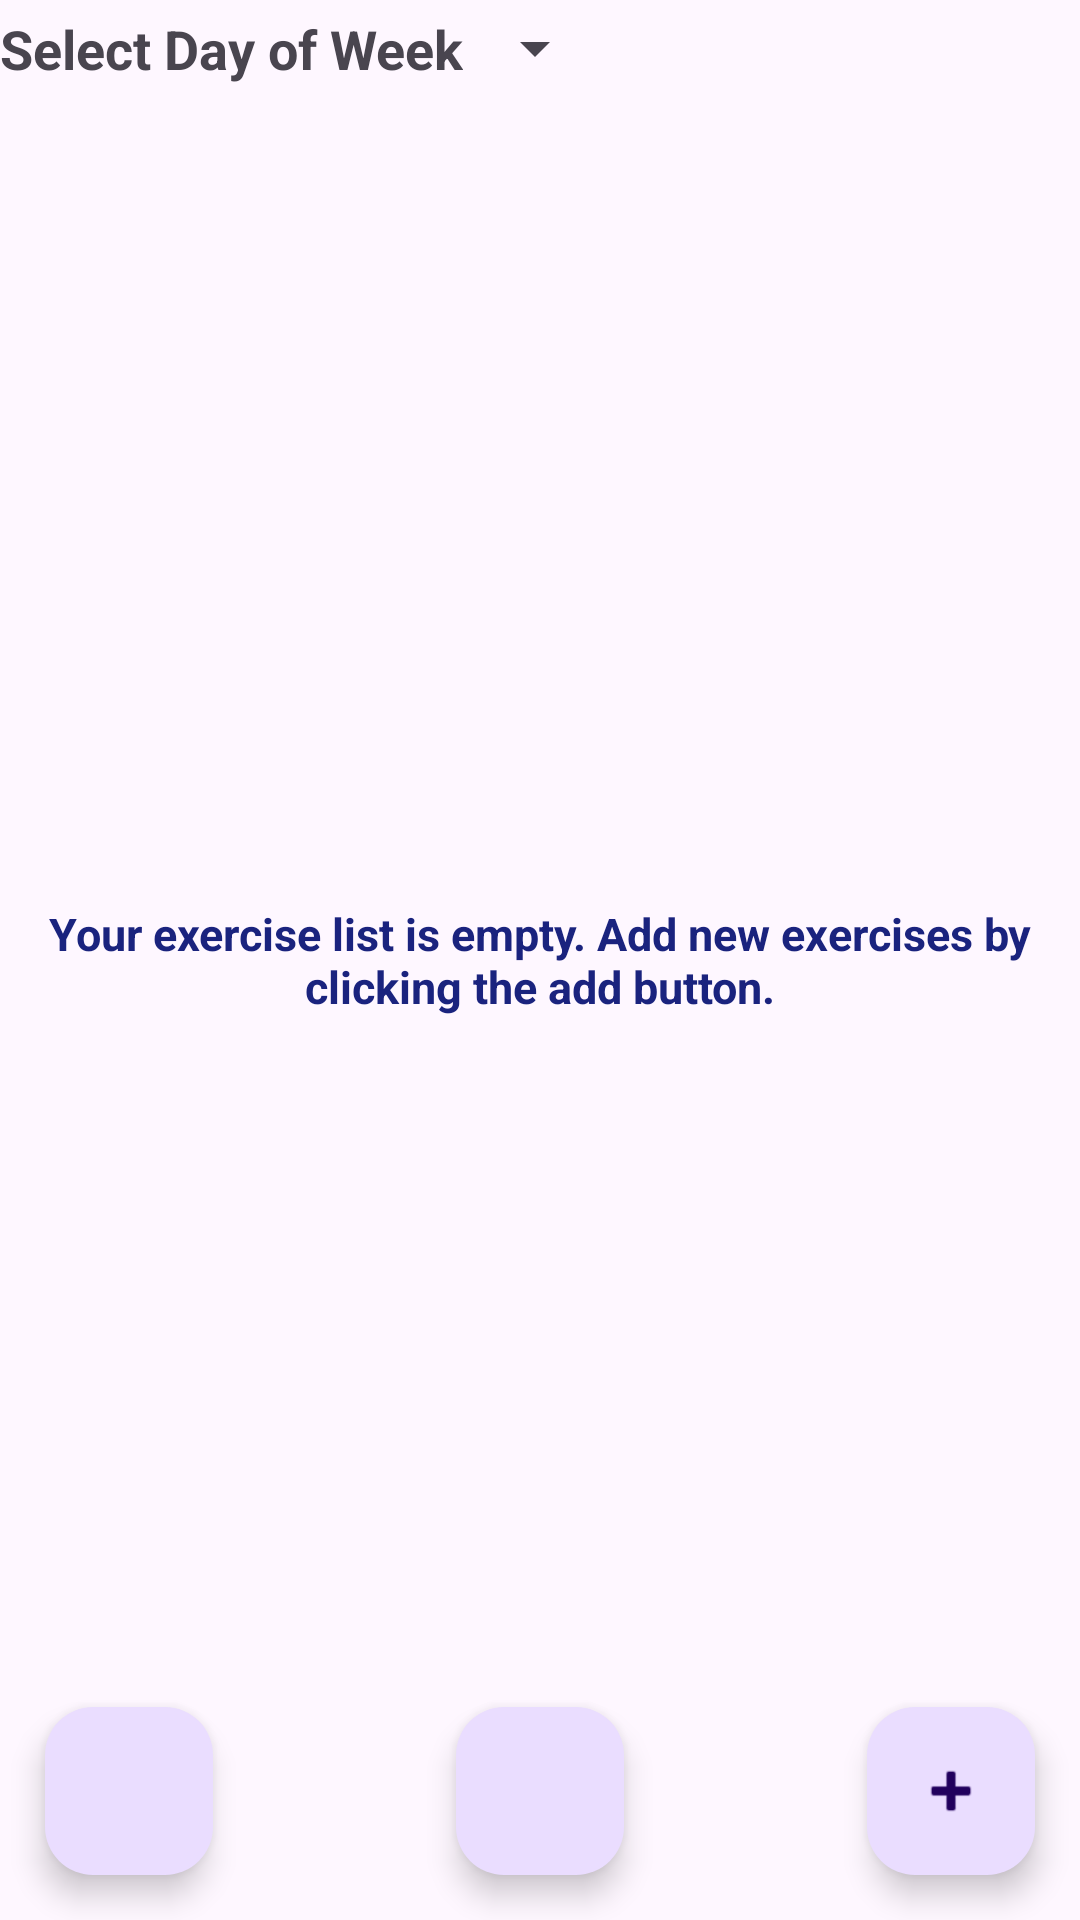

Icon bounding boxes for this 1080*1920 phone screenshot, format bbox=[x1, y1, x2, y2]:
Button Add new Exercises in MyExerciseList: bbox=[867, 1707, 1035, 1875]
